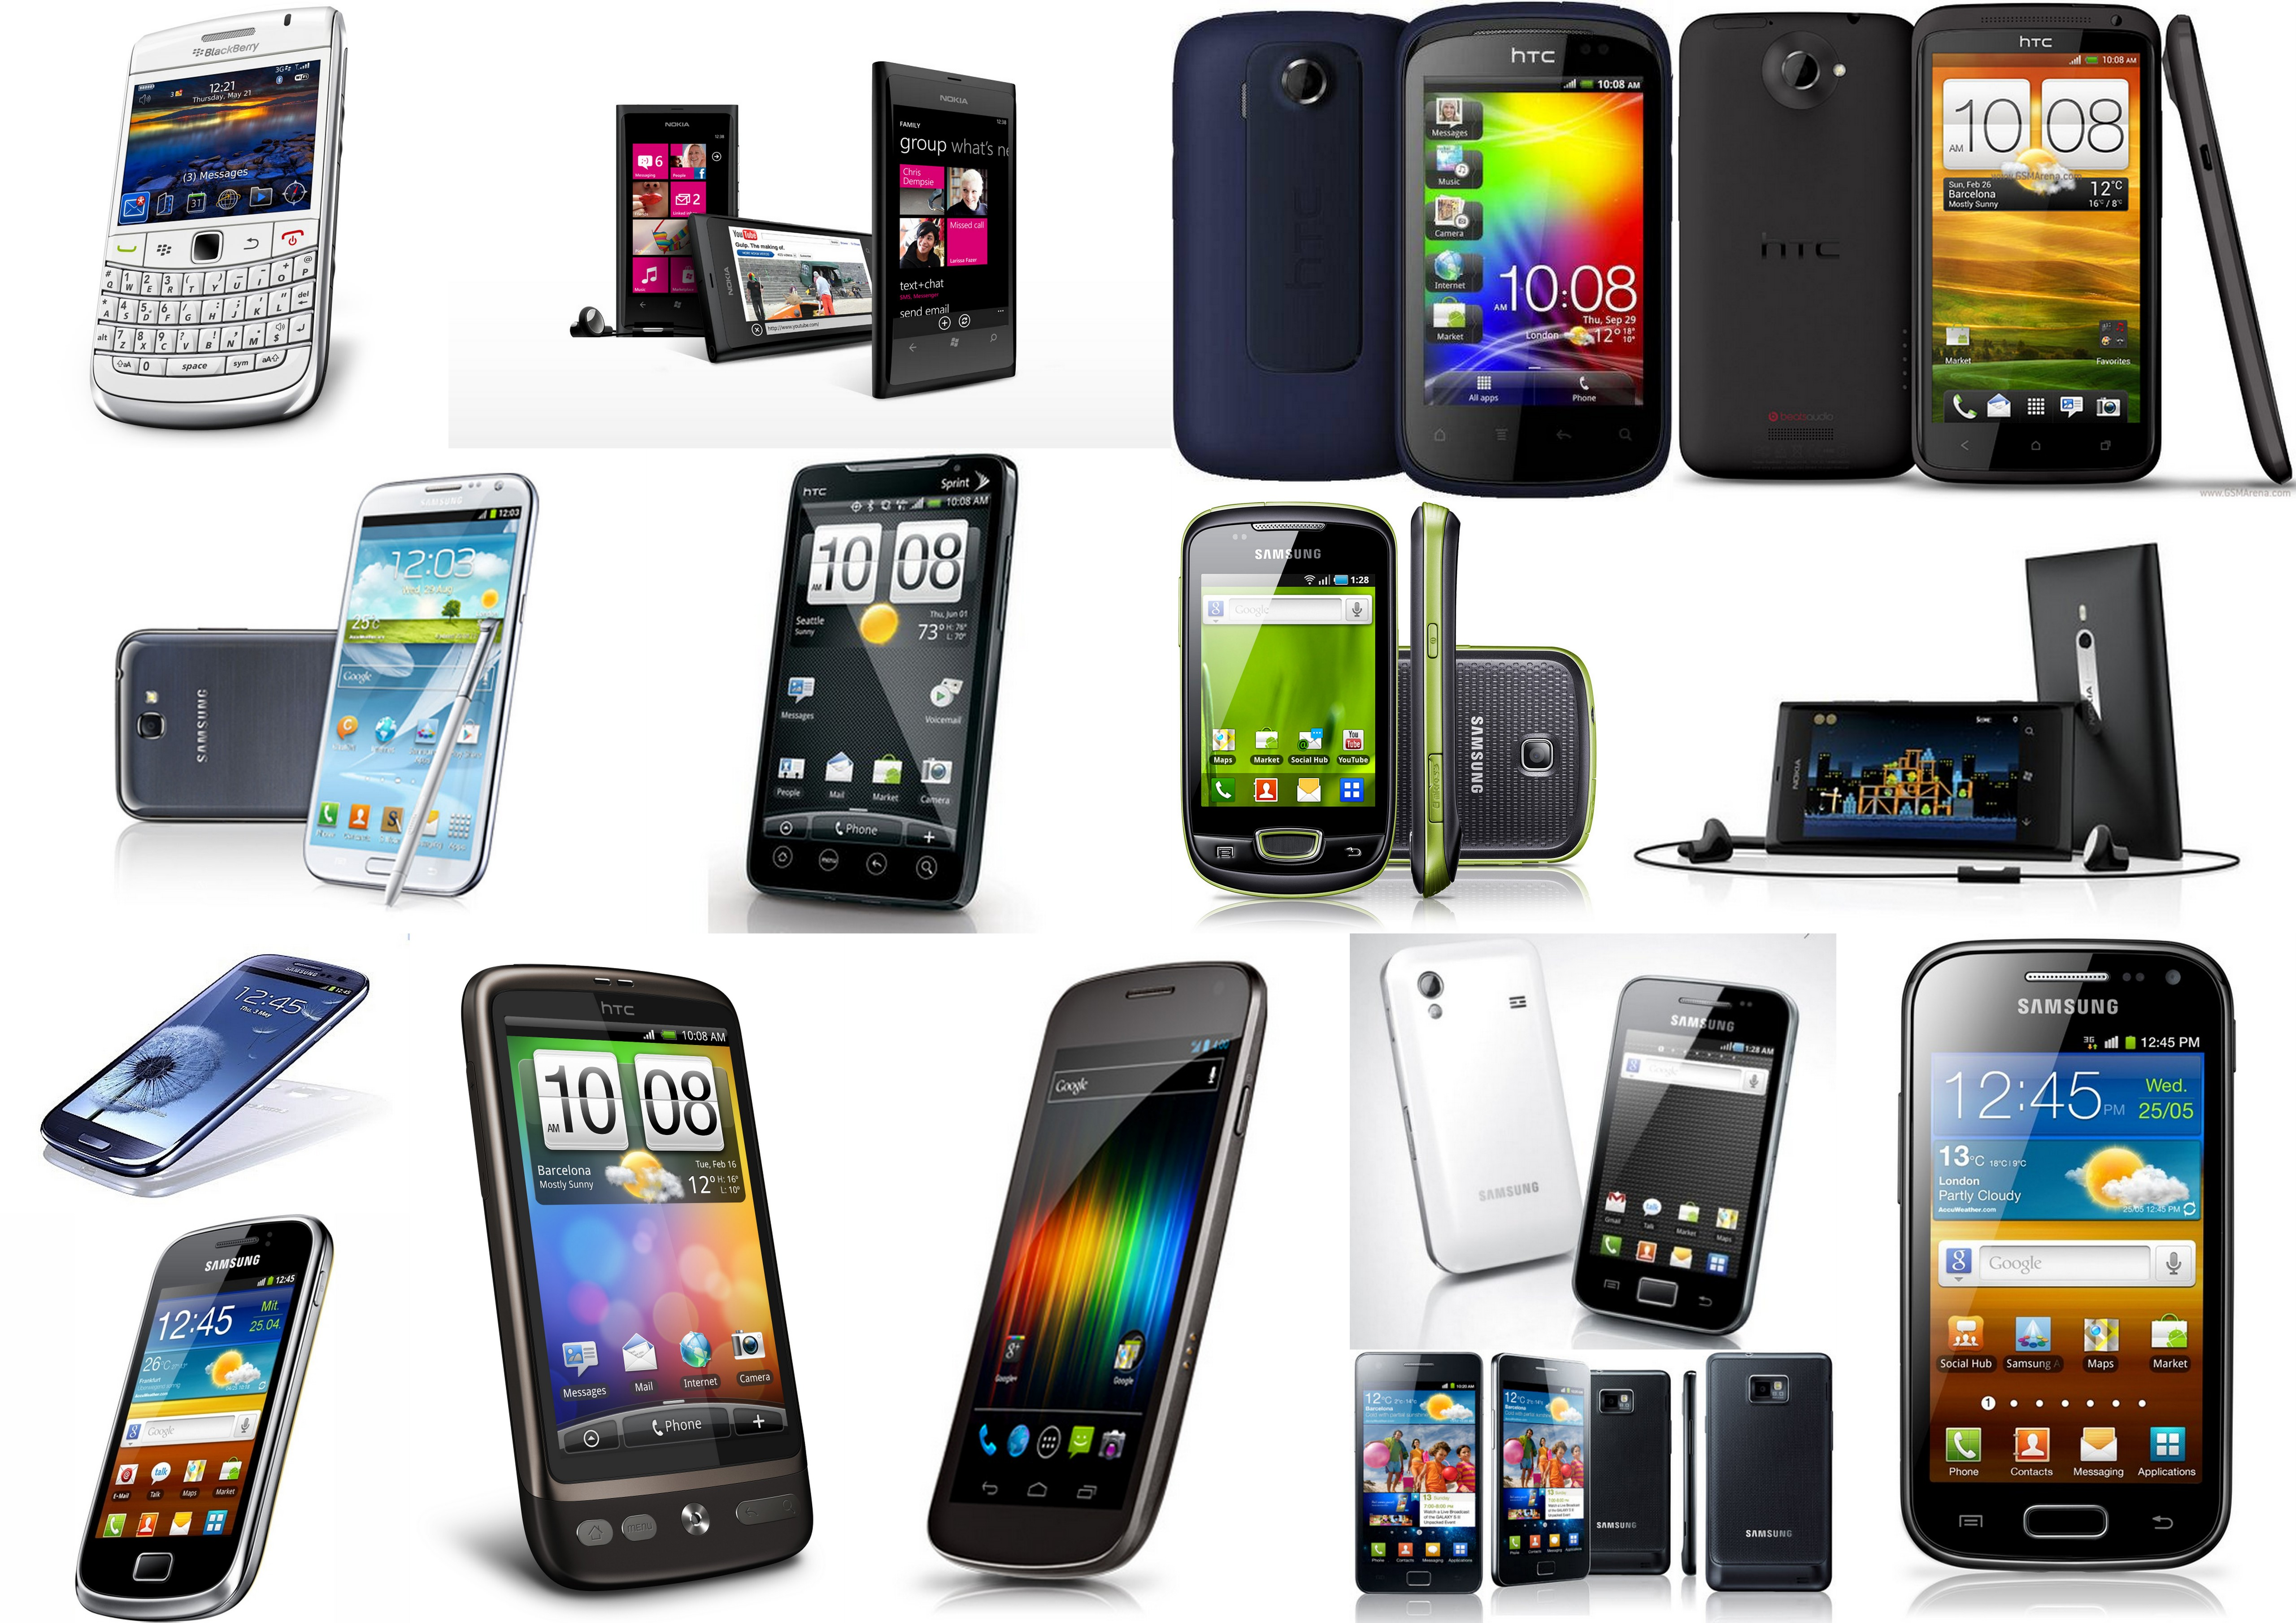mobile: (1876, 933, 2292, 1616), (436, 954, 863, 1576), (757, 450, 1003, 945)
